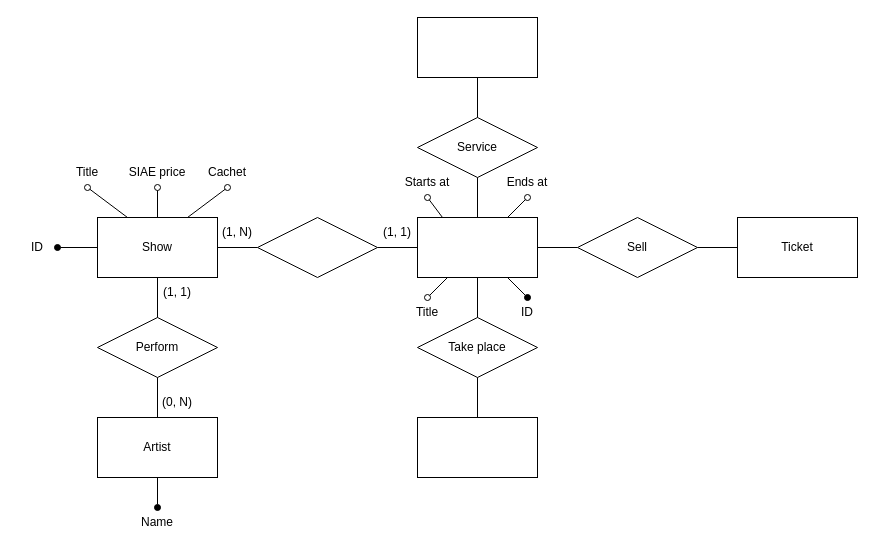
This 875x555 diagram has some shape labels left out. Here are the shapes that lost their labels. From the top down, the centre of each, then its label:
At point 477,47: "Provider".
At point 317,247: "Compose".
At point 477,247: "Event".
At point 477,447: "Venue".
